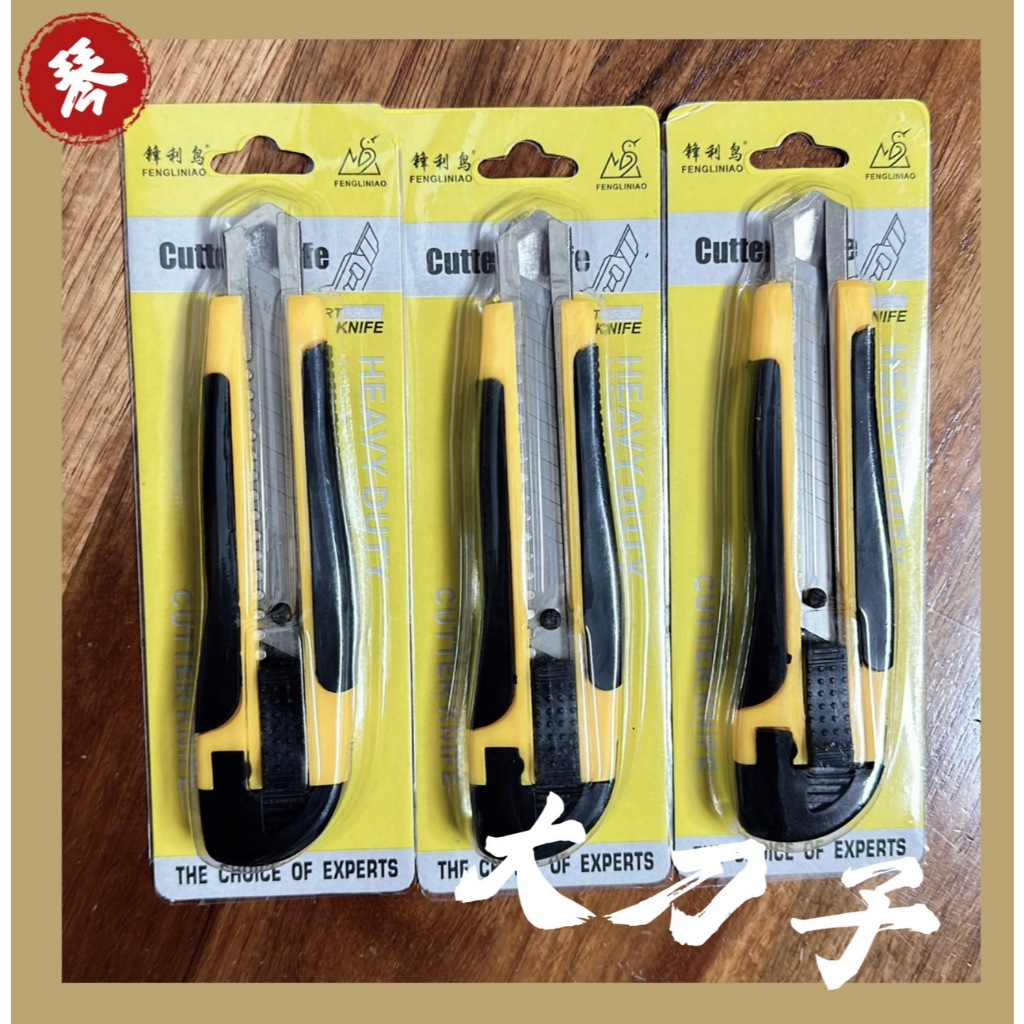cutter: (422, 209, 622, 860), (710, 190, 900, 849), (167, 205, 354, 871)
